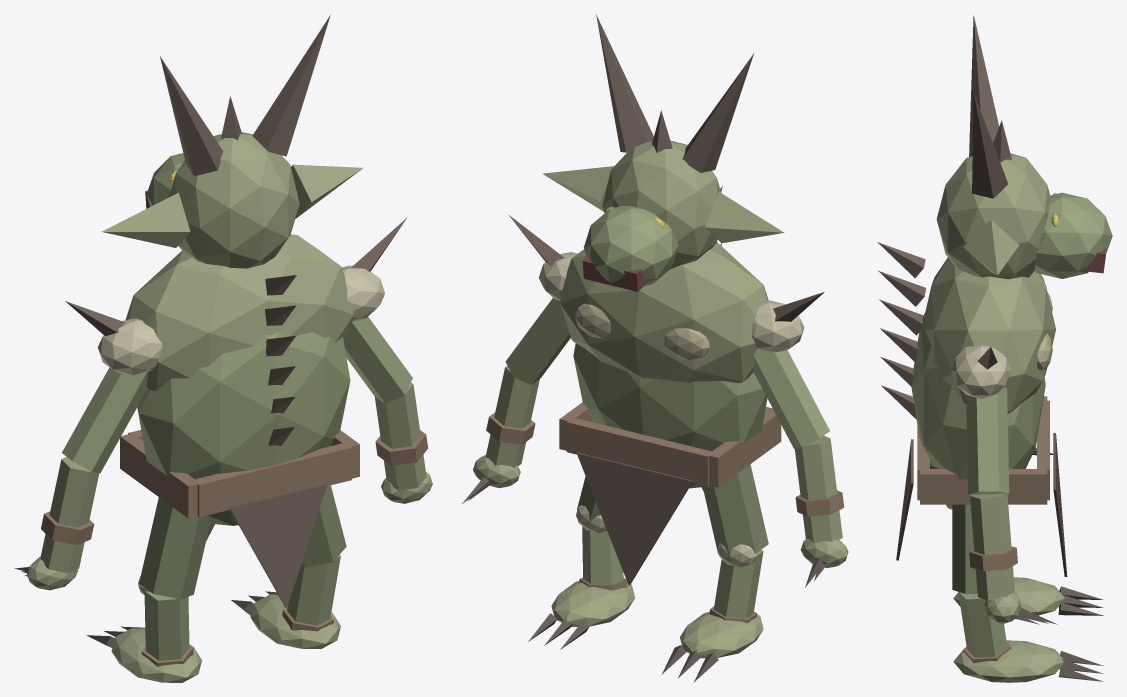
The model's file is biped_tier_4_warlord_boss.glb.
3 views of the same model, side by side, from view 1: azimuth 30°, elevation 25°; view 2: azimuth 150°, elevation 25°; view 3: azimuth 270°, elevation 25° (orthographic). The views are drawn at different scales.
Visible parts, largest first — view 1: torso, chest, head, back_loincloth, belt_back, thigh_L, upper_arm_L, forearm_L, upper_arm_R, horn_R, forearm_R, belt_L (+17 smaller); view 2: chest, torso, head, front_loincloth, snout, belt_front, upper_arm_L, thigh_L, forearm_L, upper_arm_R, forearm_R, horn_R (+21 smaller); view 3: chest, head, torso, snout, upper_arm_R, forearm_R, belt_R, foot_R, shoulder_bone_plate_R, horn_R, shin_R, thigh_R (+16 smaller).
Boxes of the visible parts, x1,y1,x2,y2 form: torso: (137, 332, 350, 479); chest: (125, 234, 353, 390); head: (168, 132, 299, 268); back_loincloth: (229, 484, 327, 608); belt_back: (193, 443, 351, 517); thigh_L: (139, 497, 210, 599); upper_arm_L: (62, 367, 148, 473); forearm_L: (40, 457, 99, 573); upper_arm_R: (344, 317, 412, 403); horn_R: (252, 15, 330, 156); forearm_R: (374, 382, 426, 490); belt_L: (120, 434, 197, 518); chest: (560, 242, 768, 383); torso: (573, 344, 767, 451); head: (602, 140, 721, 269); front_loincloth: (577, 452, 693, 585); snout: (583, 206, 678, 286); belt_front: (566, 417, 711, 486); upper_arm_L: (753, 349, 829, 449); thigh_L: (702, 464, 768, 558); forearm_L: (795, 435, 842, 543); upper_arm_R: (505, 298, 570, 384); forearm_R: (485, 365, 539, 467); horn_R: (596, 14, 653, 152); chest: (924, 257, 1055, 413); head: (936, 153, 1051, 279); torso: (911, 312, 1045, 479); snout: (1034, 192, 1112, 278); upper_arm_R: (966, 386, 1009, 494); forearm_R: (970, 493, 1014, 600); belt_R: (920, 469, 1047, 504); foot_R: (953, 640, 1063, 682); shoulder_bone_plate_R: (951, 345, 1010, 398); horn_R: (972, 93, 1008, 198); shin_R: (958, 592, 1007, 657); thigh_R: (952, 504, 977, 593).
Bounding box in the file's own units: 1.68 × 2.53 × 0.912.
